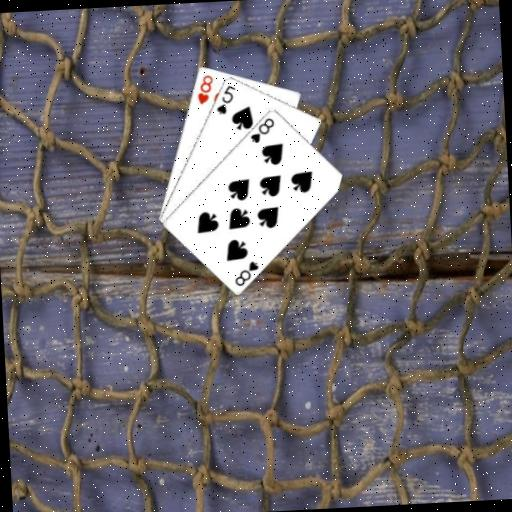5S: (212, 81, 238, 116)
8H: (193, 72, 215, 107)
8S: (246, 115, 276, 145), (231, 258, 261, 288)
